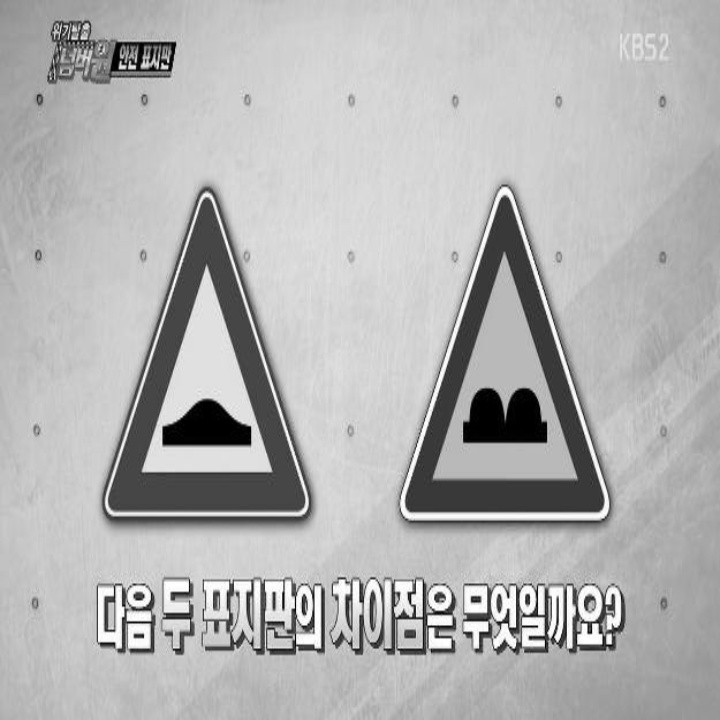bump: (151, 389, 256, 463)
